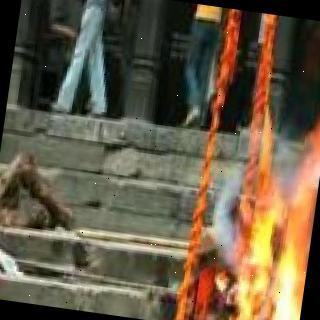fire: (222, 133, 320, 320)
